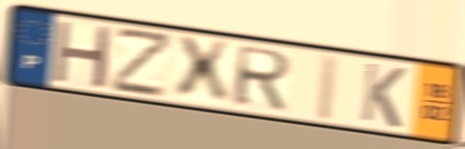H: (50, 17, 115, 92)
I: (313, 51, 342, 124)
K: (357, 60, 408, 131)
R: (231, 44, 295, 113)
X: (173, 34, 232, 107)
Z: (111, 28, 176, 100)
